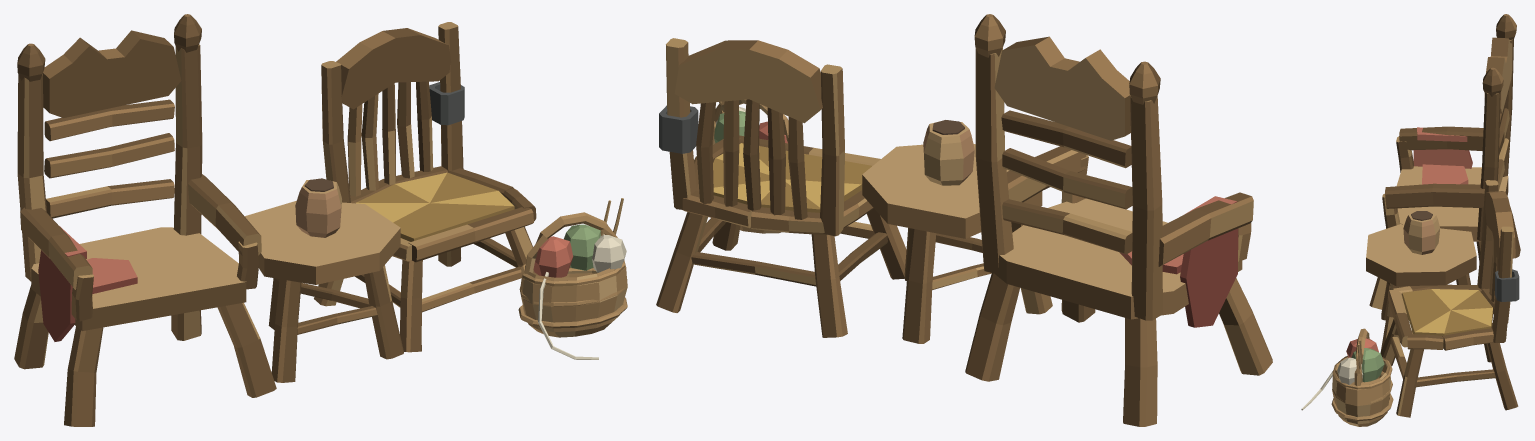
The model's file is cellar_quiet_corner_v1.glb.
3 views of the same model, side by side, from view 1: azimuth 30°, elevation 25°; view 2: azimuth 150°, elevation 25°; view 3: azimuth 270°, elevation 25° (orthographic). The views are drawn at different scales.
Parts seen in each view (by area): view 1: TallChairRuntimeMesh, LowChairRuntimeMesh, SideTableRuntimeMesh, YarnBasketRuntimeMesh; view 2: TallChairRuntimeMesh, LowChairRuntimeMesh, SideTableRuntimeMesh, YarnBasketRuntimeMesh; view 3: LowChairRuntimeMesh, TallChairRuntimeMesh, SideTableRuntimeMesh, YarnBasketRuntimeMesh.
Part boxes in pixels (box(x1,y1,x2,y2)): TallChairRuntimeMesh: box(14, 14, 276, 426); LowChairRuntimeMesh: box(314, 22, 536, 352); SideTableRuntimeMesh: box(245, 178, 403, 382); YarnBasketRuntimeMesh: box(518, 198, 627, 359); TallChairRuntimeMesh: box(965, 14, 1272, 426); LowChairRuntimeMesh: box(656, 38, 906, 337); SideTableRuntimeMesh: box(862, 120, 1052, 343); YarnBasketRuntimeMesh: box(712, 99, 788, 233); LowChairRuntimeMesh: box(1380, 180, 1519, 417); TallChairRuntimeMesh: box(1369, 14, 1520, 309); SideTableRuntimeMesh: box(1366, 211, 1476, 351); YarnBasketRuntimeMesh: box(1301, 328, 1393, 426).
Bounding box in the file's own units: 3.08 × 1.79 × 1.47.
